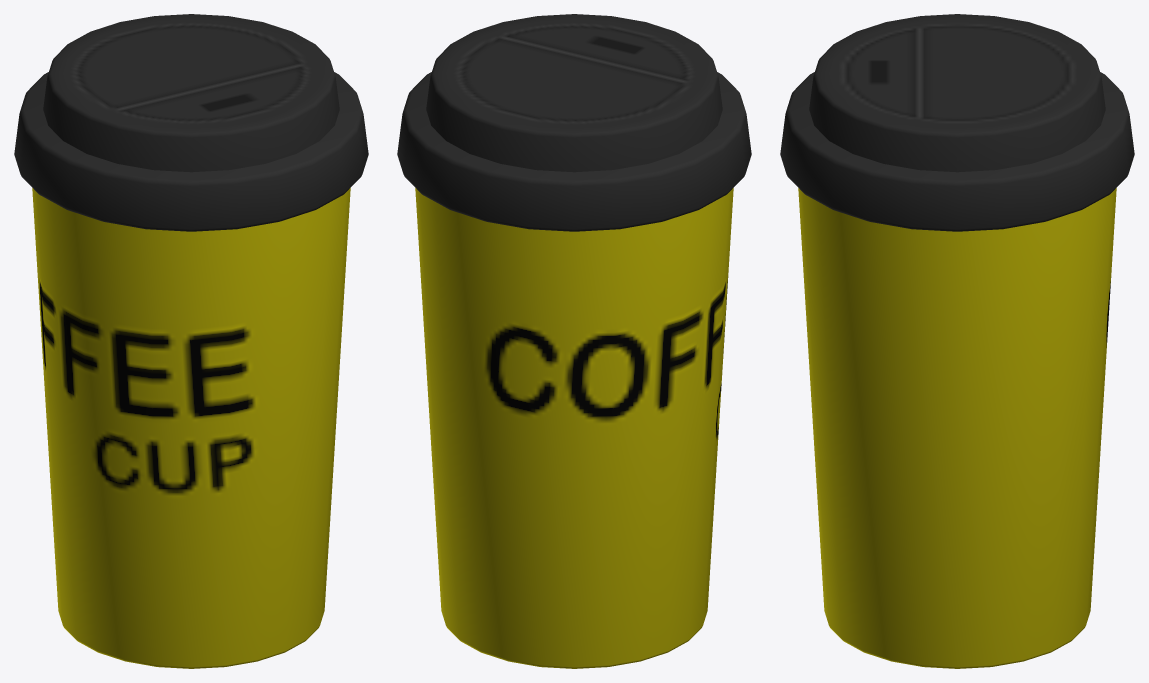
Rendered from coffee cup.FBX.
3 renders of one model, left to right at view 1: azimuth 30°, elevation 25°; view 2: azimuth 150°, elevation 25°; view 3: azimuth 270°, elevation 25°, orthographic.
Parts seen in each view (by area): view 1: coffee cup; view 2: coffee cup; view 3: coffee cup.
Boxes of the visible parts, left/top/right/bottom form: coffee cup: left=14, top=14, right=368, bottom=668; coffee cup: left=397, top=14, right=751, bottom=668; coffee cup: left=780, top=14, right=1134, bottom=668.
Size of the model in its own units: 3.01 by 3.01 by 5.06.
1 material, 1 textured.
